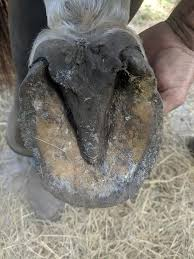horsesole: (17, 45, 163, 209)
